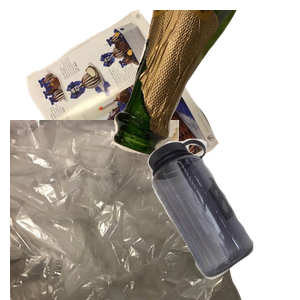glass: (111, 10, 300, 158)
paper: (24, 10, 235, 190)
plastic: (145, 136, 300, 300)
trash: (10, 120, 244, 300)
